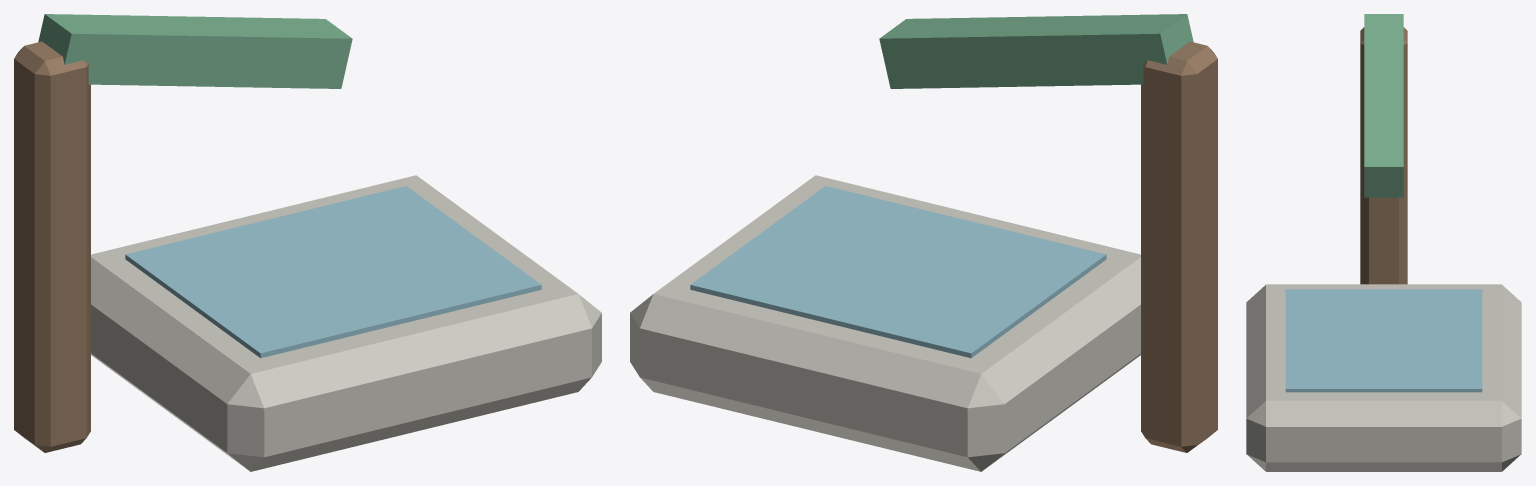
The model's file is feudal-japan-castle-town-bamboo-water-spout-bf90aaf3__26404.glb.
The picture shows the model from 3 angles, left to right: view 1: azimuth 30°, elevation 25°; view 2: azimuth 150°, elevation 25°; view 3: azimuth 270°, elevation 25°; orthographic projection. The views are drawn at different scales.
Parts seen in each view (by area): view 1: bamboo-water-spout; view 2: bamboo-water-spout; view 3: bamboo-water-spout.
Part boxes in pixels (box(x1,y1,x2,y2)): bamboo-water-spout: box(14, 14, 601, 471); bamboo-water-spout: box(630, 14, 1217, 471); bamboo-water-spout: box(1246, 14, 1521, 471).
Bounding box in the file's own units: 1.06 × 0.8485 × 0.7.
